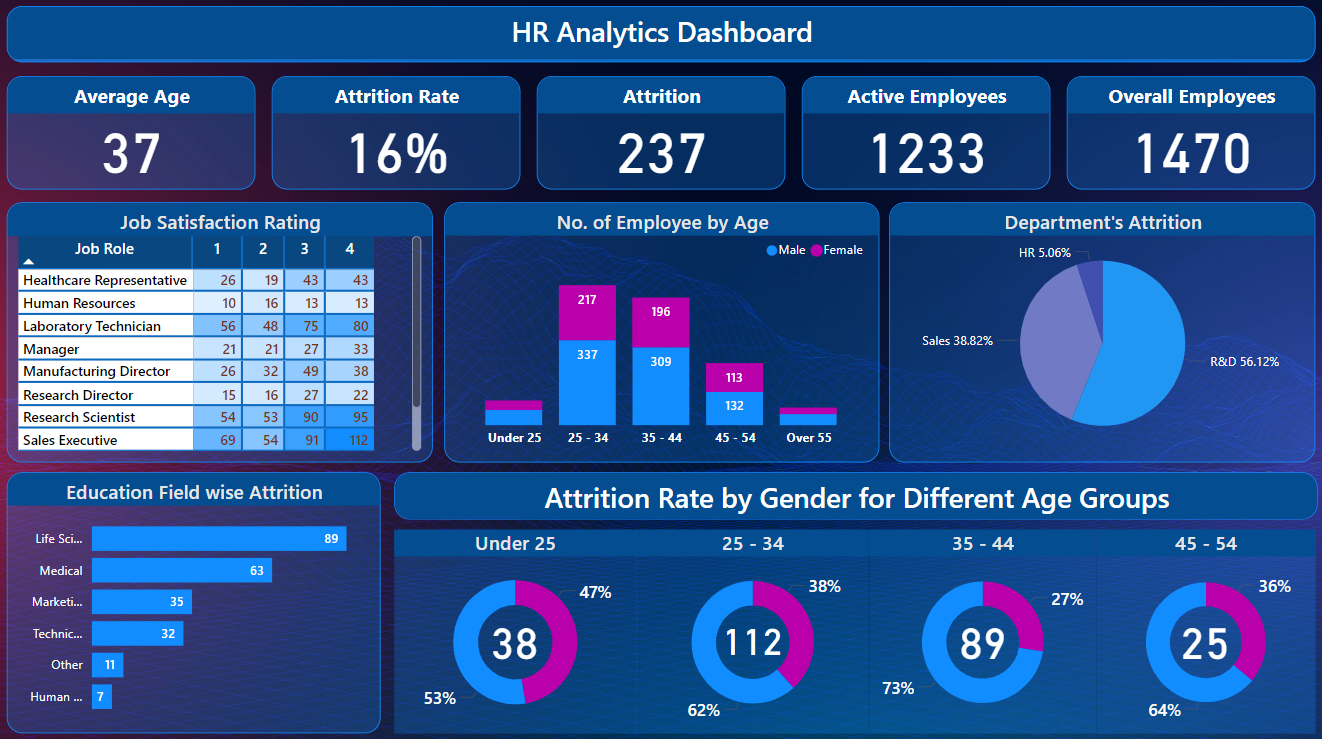

The page's visual inventory and layout, read from the dashboard file:
{"tool":"powerbi","page":{"name":"Page 1","canvas":[1280,720],"ordinal":0},"visuals":[{"type":"card","title":"Overall Employees","fields":{"Values":["CountNonNull(HR data.emp no)"]},"box":[1031.5,77.2,240.1,109.8],"z":0},{"type":"card","title":"Attrition","fields":{"Values":["DAX.count_attrition"]},"box":[520,77.2,240.1,109.8],"z":1000},{"type":"card","title":"Attrition Rate","fields":{"Values":["DAX.Attrition Rate"]},"box":[264.2,77.2,240.1,109.8],"z":2000},{"type":"card","title":"Active Employees","fields":{"Values":["DAX.Active Employees"]},"box":[775.7,77.2,240.1,109.8],"z":3000},{"type":"card","title":"Average Age ","fields":{"Values":["DAX.Average Employee age"]},"box":[8.4,77.2,240.1,109.8],"z":4000},{"type":"pieChart","title":"Department''s Attrition","fields":{"Category":["HR data.Department"],"Y":["DAX.Attrition count"]},"box":[860.2,199.1,411.4,250.9],"z":5000},{"type":"columnChart","title":"No. of Employee by Age","fields":{"Category":["HR data.CF_age band"],"Y":["CountNonNull(HR data.emp no)"],"Series":["HR data.Gender"]},"box":[430.1,199.1,419.8,250.9],"z":6000},{"type":"pivotTable","title":"Job Satisfaction Rating","fields":{"Rows":["HR data.Job Role"],"Columns":["HR data.Job Satisfaction"],"Values":["CountNonNull(HR data.emp no)"]},"box":[8.4,199.1,411.4,250.9],"z":7000},{"type":"clusteredBarChart","title":"Education Field wise Attrition","fields":{"Category":["HR data.Education Field"],"Y":["DAX.Attrition count"]},"box":[8.4,459.7,360.7,252.1],"z":8000},{"type":"donutChart","title":"Under 25","fields":{"Category":["HR data.Gender"],"Y":["DAX.Attrition count"],"Series":["HR data.CF_age band"]},"box":[382.4,515.2,234,196.6],"z":9000},{"type":"textbox","title":"Attrition Rate by Gender for Different Age Groups ","box":[382.4,459.7,891.6,45.8],"z":10000},{"type":"donutChart","title":"25 - 34","fields":{"Category":["HR data.Gender"],"Y":["DAX.Attrition count"],"Series":["HR data.CF_age band"]},"box":[616.5,515.2,224.4,196.6],"z":11000},{"type":"donutChart","title":"35 - 44","fields":{"Category":["HR data.Gender"],"Y":["DAX.Attrition count"],"Series":["HR data.CF_age band"]},"box":[840.9,515.2,219.6,196.6],"z":12000},{"type":"donutChart","title":"45 - 54","fields":{"Category":["HR data.Gender"],"Y":["DAX.Attrition count"],"Series":["HR data.CF_age band"]},"box":[1060.5,515.2,211.1,196.6],"z":13000},{"type":"card","fields":{"Values":["DAX.Attrition count"]},"box":[462.1,586.3,73.6,68.8],"z":14000},{"type":"card","fields":{"Values":["DAX.Attrition count"]},"box":[676.8,591.2,102.5,59.1],"z":15000},{"type":"card","fields":{"Values":["DAX.Attrition count"]},"box":[908.4,586.3,84.5,68.8],"z":16000},{"type":"card","fields":{"Values":["DAX.Attrition count"]},"box":[1123.2,586.3,84.5,68.8],"z":17000},{"type":"textbox","title":"HR Analytics Dashboard","box":[8.4,9.7,1263.1,54.3],"z":18000}]}

Visuals, with their boxes in screenshot pixels (x1, y1, x2, y2), scaled from the page's 1280x720 canvas onto the 1322x739 screenshot:
"Overall Employees" card: [1065, 79, 1313, 192]
"Attrition" card: [537, 79, 785, 192]
"Attrition Rate" card: [273, 79, 521, 192]
"Active Employees" card: [801, 79, 1049, 192]
"Average Age " card: [9, 79, 257, 192]
"Department''s Attrition" pieChart: [888, 204, 1313, 462]
"No. of Employee by Age" columnChart: [444, 204, 878, 462]
"Job Satisfaction Rating" pivotTable: [9, 204, 434, 462]
"Education Field wise Attrition" clusteredBarChart: [9, 472, 381, 731]
"Under 25" donutChart: [395, 529, 637, 731]
"Attrition Rate by Gender for Different Age Groups " textbox: [395, 472, 1316, 519]
"25 - 34" donutChart: [637, 529, 868, 731]
"35 - 44" donutChart: [868, 529, 1095, 731]
"45 - 54" donutChart: [1095, 529, 1313, 731]
card - DAX.Attrition count: [477, 602, 553, 672]
card - DAX.Attrition count: [699, 607, 805, 667]
card - DAX.Attrition count: [938, 602, 1025, 672]
card - DAX.Attrition count: [1160, 602, 1247, 672]
"HR Analytics Dashboard" textbox: [9, 10, 1313, 66]
